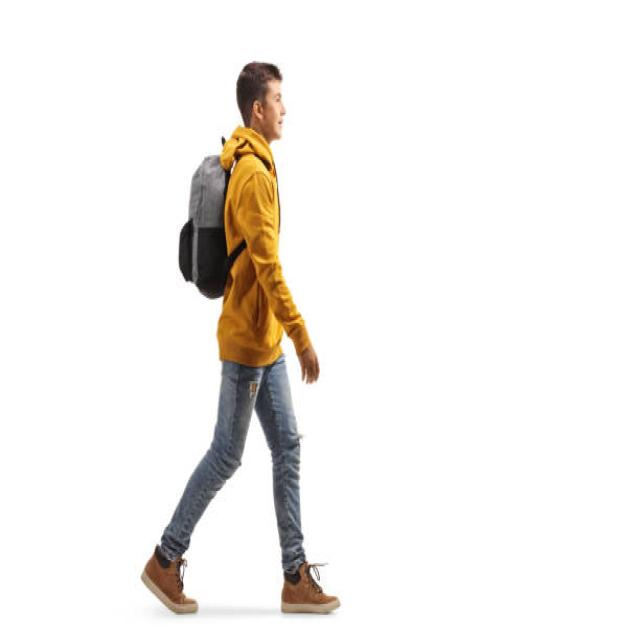Person: (140, 59, 341, 616)
